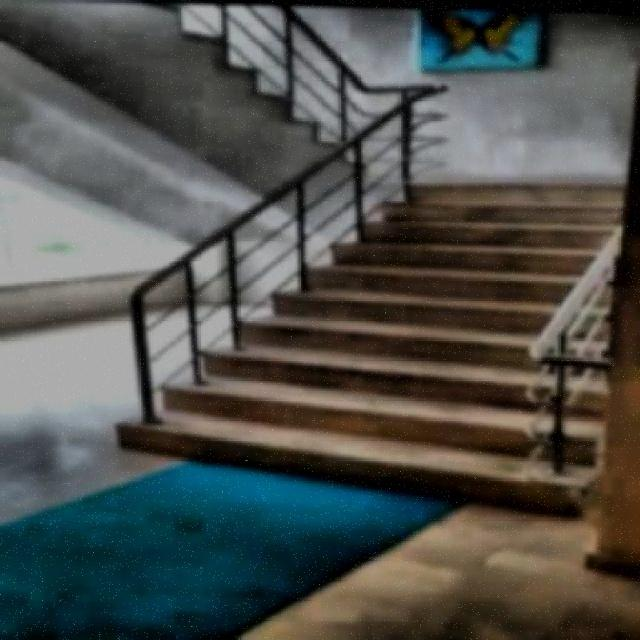stair: (105, 162, 628, 498)
